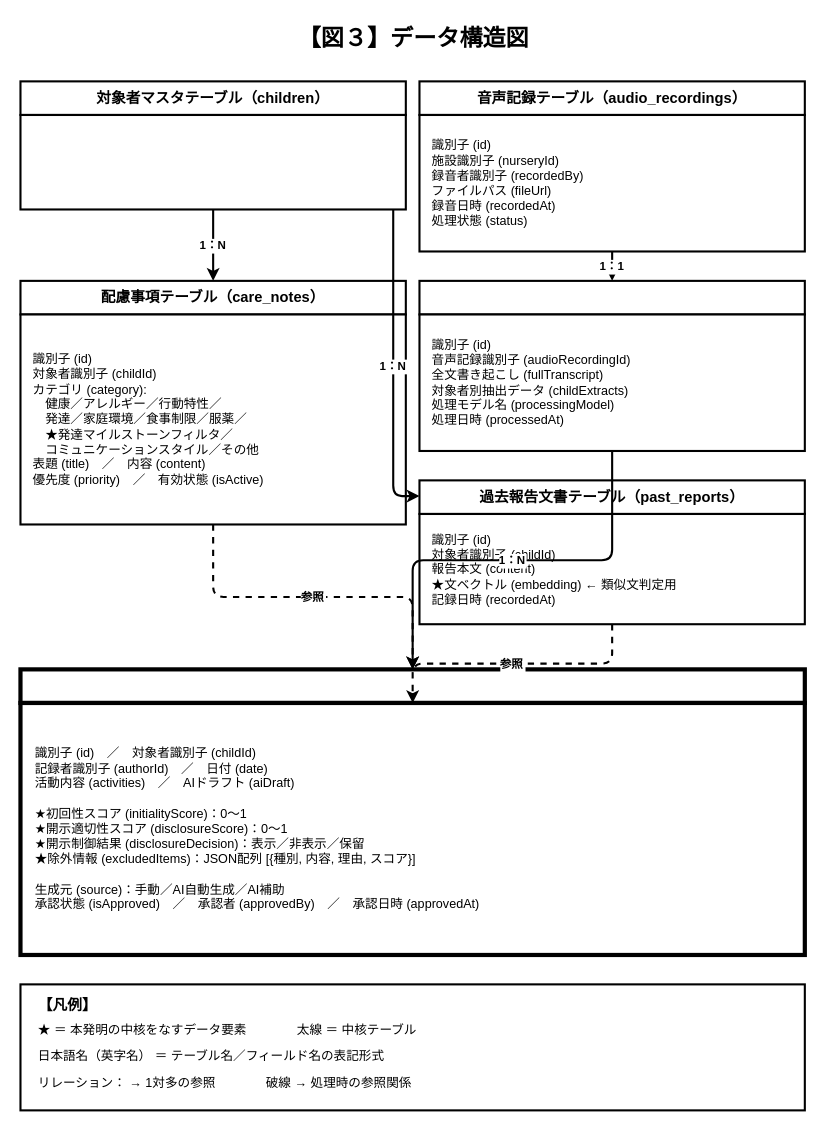
Some shapes in this 824 by 1129 pixel diagram are drawn without their labels. The shapes that lost their labels are listed below. From the top down, each one's centre as x and y in pixels, then its label:
(212,161): 識別子 (id) 氏名 (name) 施設識別子 (nurseryId) クラス識別子 (classId)
(611,297): 音声書き起こしテーブル（audio_transcripts）
(412,686): ★報告文書テーブル（contact_book_entries）【中核】
